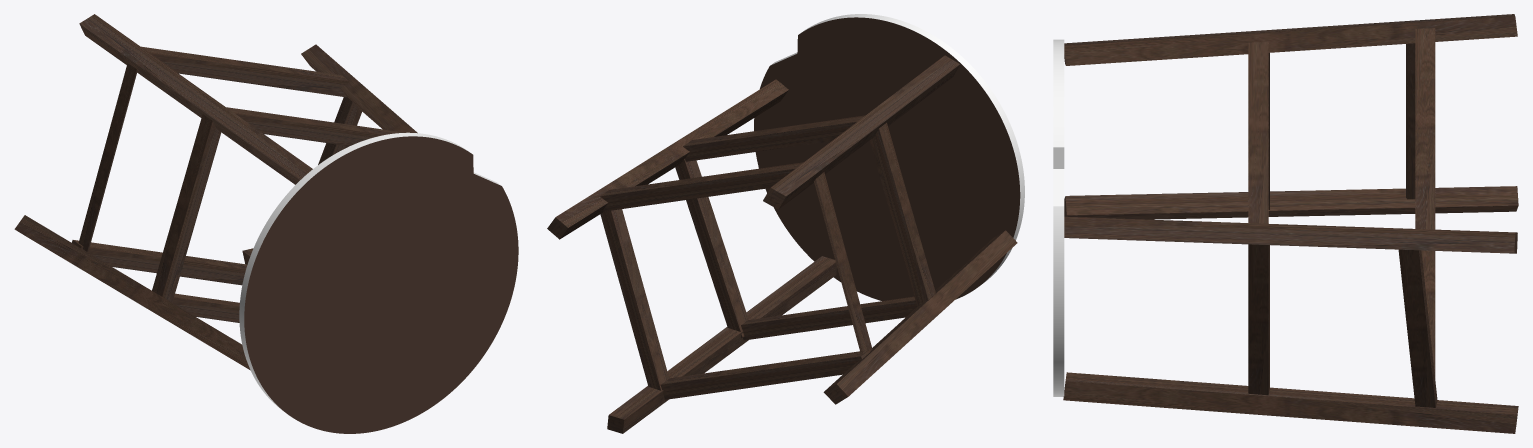
File: Stool2.glb
3 views of the same model, side by side, from view 1: azimuth 30°, elevation 25°; view 2: azimuth 150°, elevation 25°; view 3: azimuth 270°, elevation 25° (orthographic). The views are drawn at different scales.
Parts seen in each view (by area): view 1: Circle.003; view 2: Circle.003; view 3: Circle.003.
Boxes of the visible parts, x1,y1,x2,y2 form: Circle.003: (14, 14, 518, 433); Circle.003: (547, 14, 1024, 433); Circle.003: (1053, 14, 1518, 433).
Size of the model in its own units: 28.2 by 25.55 by 32.57.
Materials: 2 (1 with a texture image).
